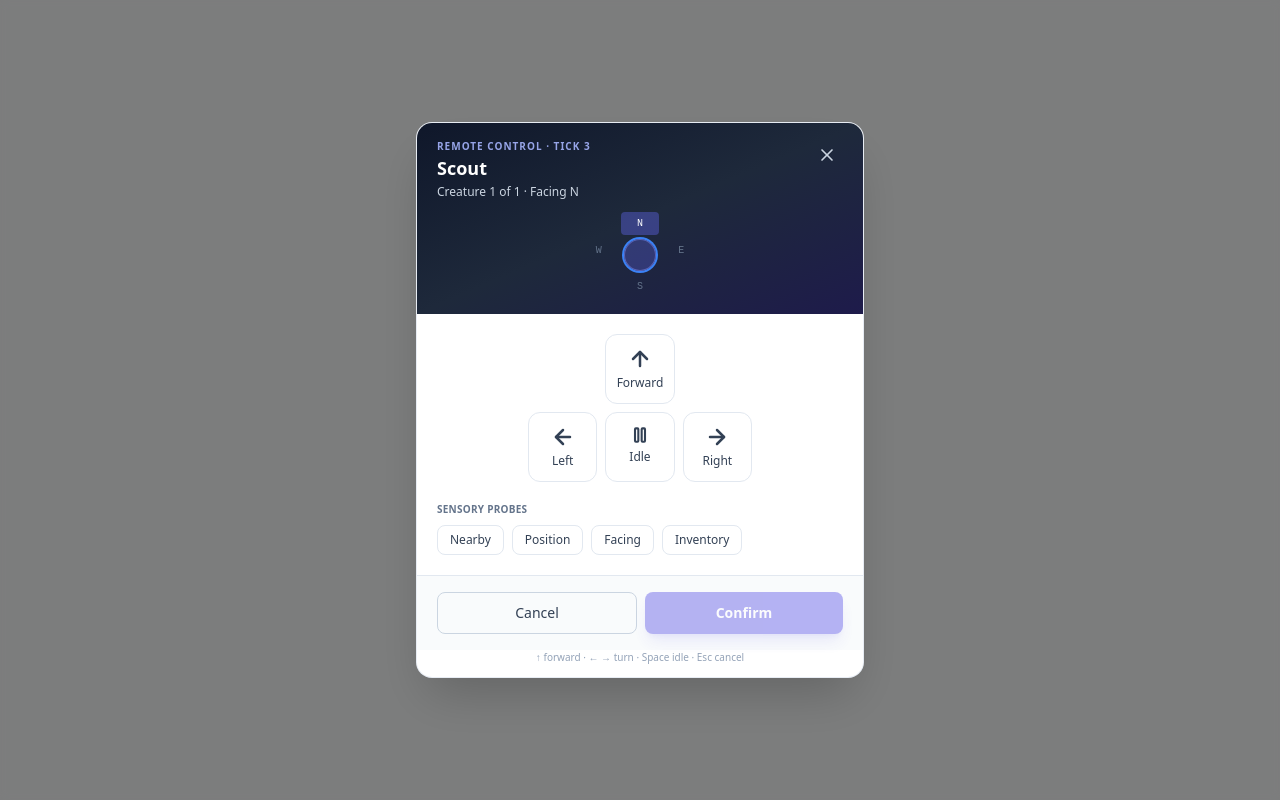
Scenario: SandboxUserActionModal › position probe shows region chip when standing in labeled region
Click the button "Position".
click(548, 540)  # box left=512, top=525, right=583, bottom=555
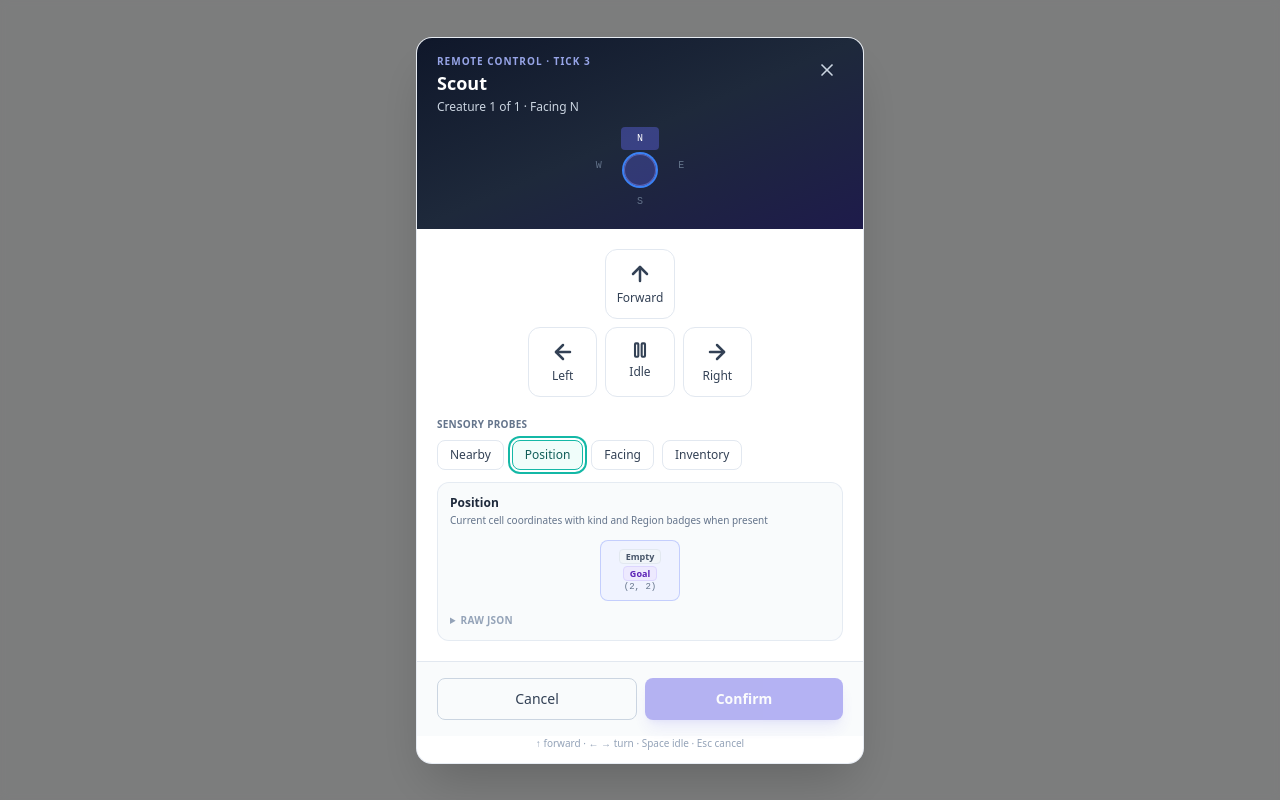
Check: the text "Goal" is shown, box left=623, top=566, right=657, bottom=580
Check: the text "Empty" is shown, box left=619, top=548, right=661, bottom=564
